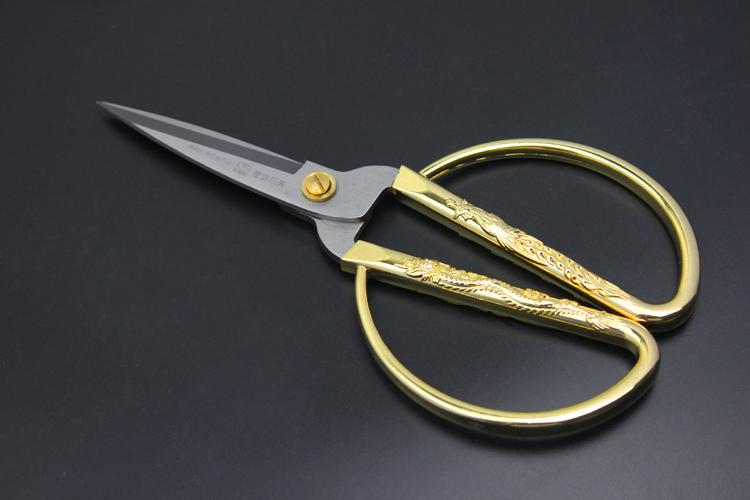scissor: (90, 95, 703, 448)
